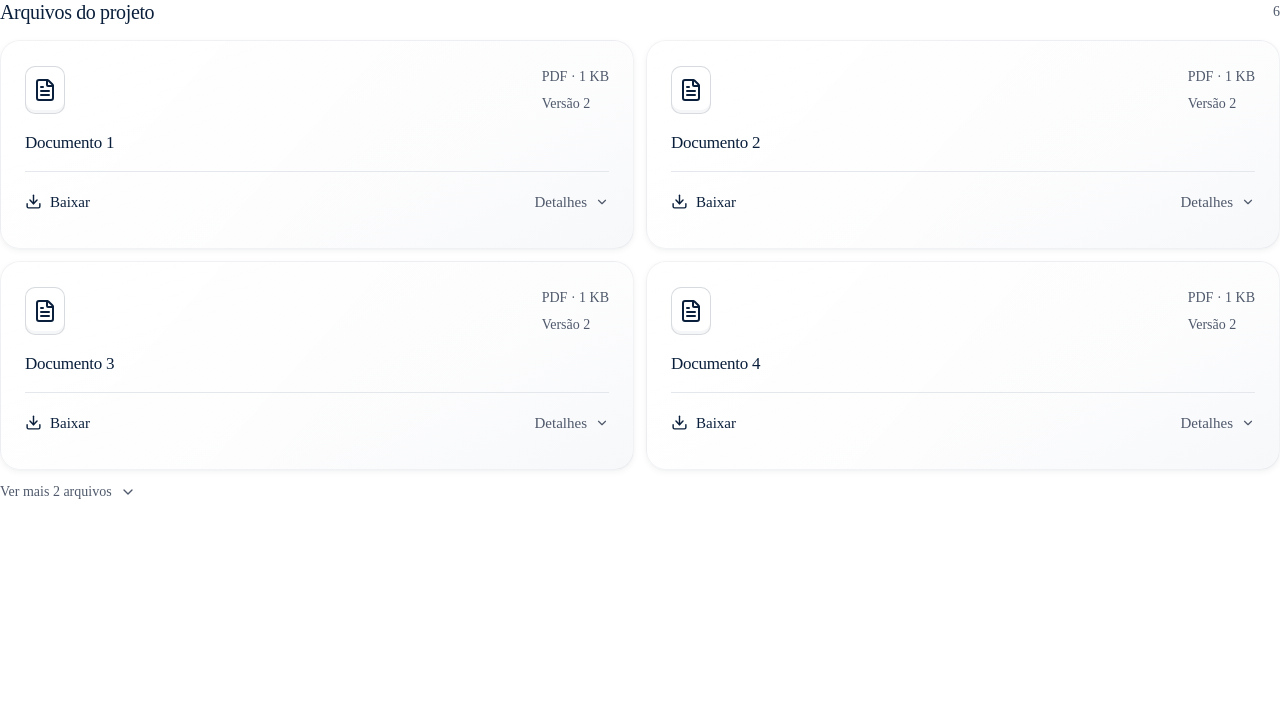
materiais e suporte do portal › mostra quatro arquivos, mantém os demais acessíveis e preserva a rota protegida
The image size is (1280, 720).
Expected: the link with aria-label "Baixar Documento 1, versão 2" is shown, [25,194,90,210]
Expected: the text "Documento 6" is not shown
What coordinates should you click on to do the following:
click the heading "Ver mais 2 arquivos"
I would click on:
 (68, 492)
Its box is [0,484,136,500].
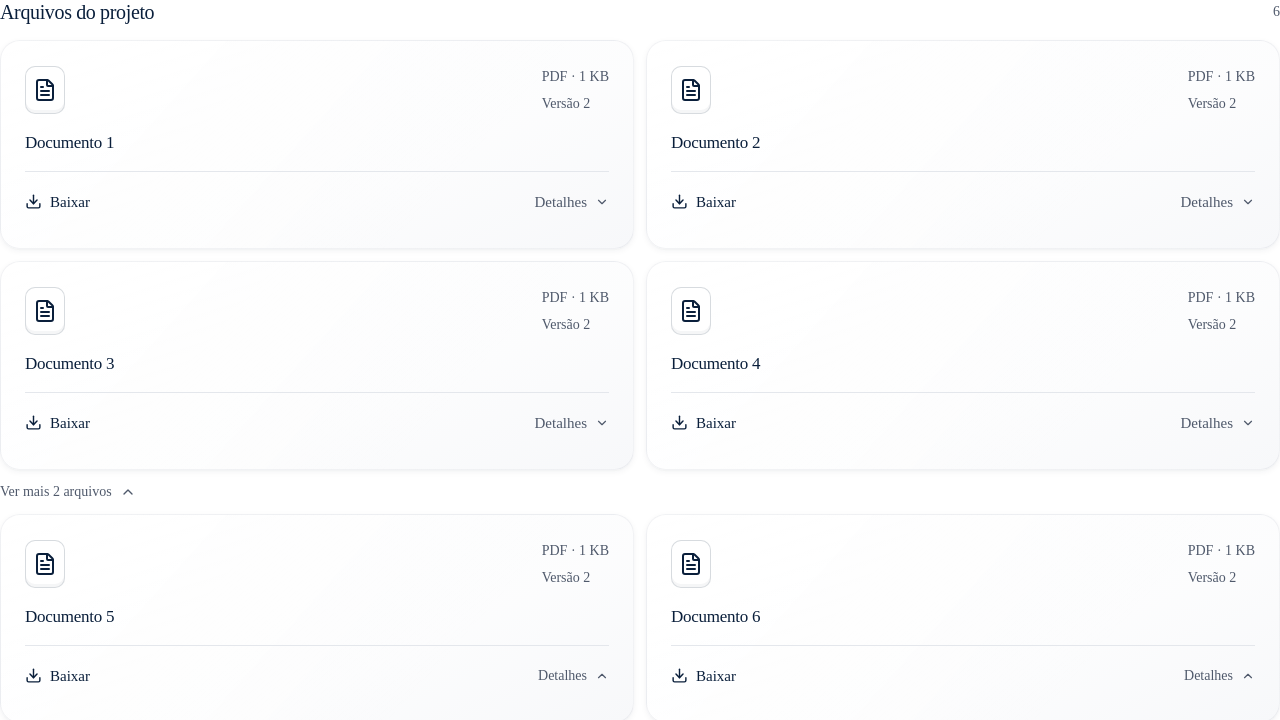
Expected: the heading "Documento 6" is shown, [671,607,760,626]
What coordinates should you click on to do the following:
click the heading named "Detalhes de Documento 1"
I would click on:
 (572, 202)
Its box is [534,194,609,210].
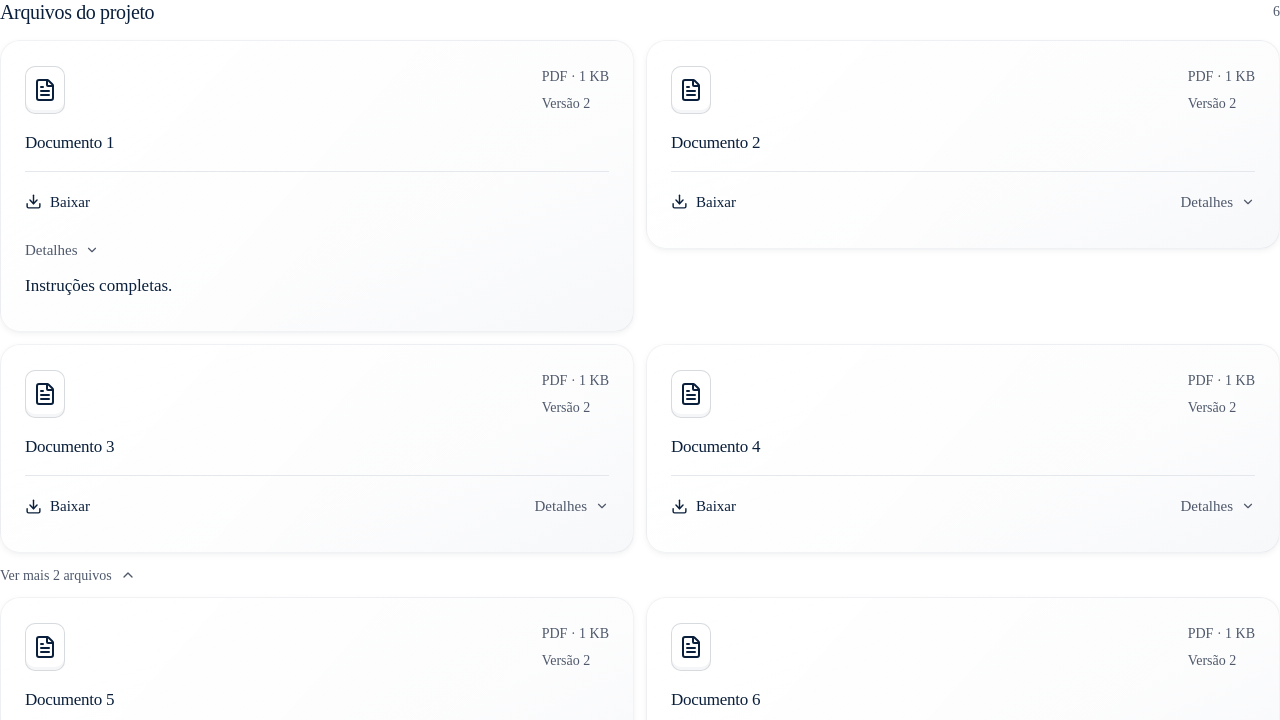
Expected: the text "Instruções completas." is shown, [25,276,172,295]
